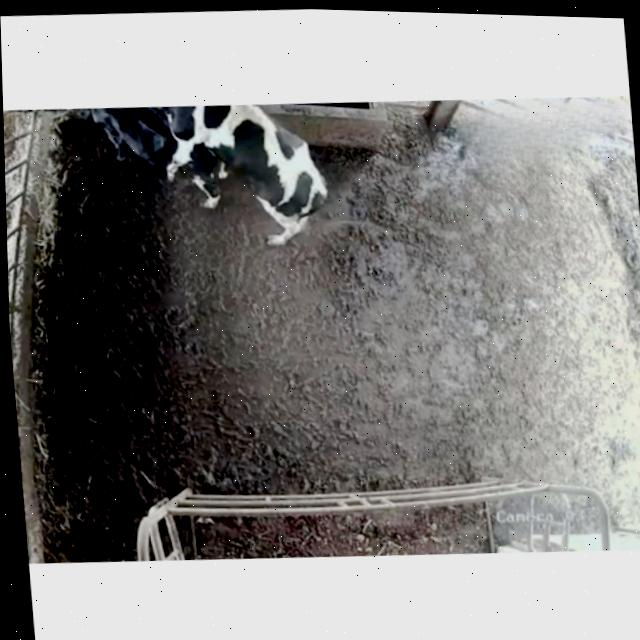ride: (110, 95, 336, 264)
